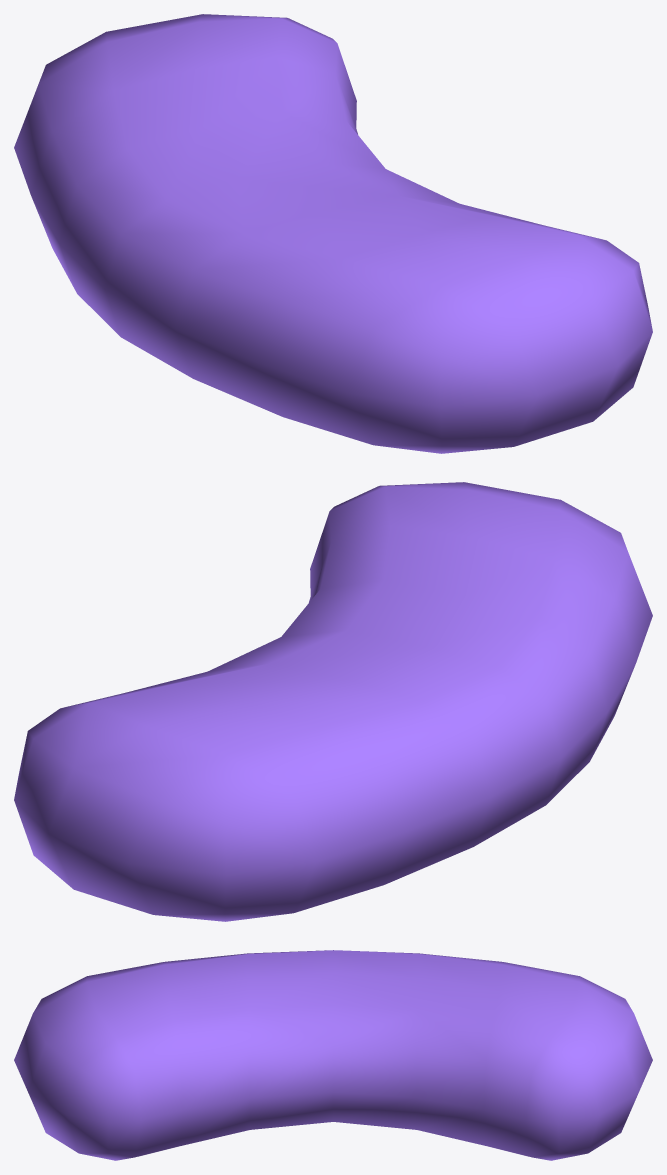
The model's file is Jelly Bean Purple.fbx.
The picture shows the model from 3 angles, top to bottom: view 1: azimuth 30°, elevation 25°; view 2: azimuth 150°, elevation 25°; view 3: azimuth 270°, elevation 25°; orthographic projection. The views are drawn at different scales.
Visible parts, largest first — view 1: Jelly Bean Purple; view 2: Jelly Bean Purple; view 3: Jelly Bean Purple.
Boxes of the visible parts, box(x1,y1,x2,y2) form: Jelly Bean Purple: box(14, 14, 652, 453); Jelly Bean Purple: box(14, 482, 652, 921); Jelly Bean Purple: box(14, 950, 652, 1160).
Size of the model in its own units: 0.0763 by 0.0329 by 0.1467.
